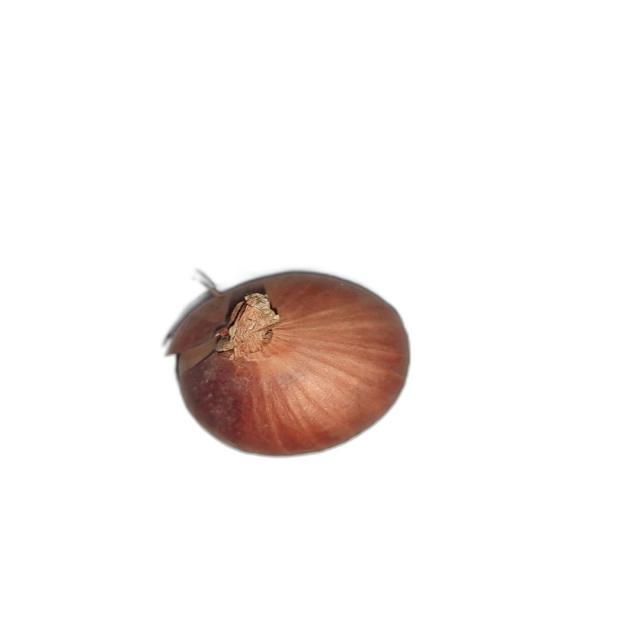onion: (163, 268, 411, 458)
